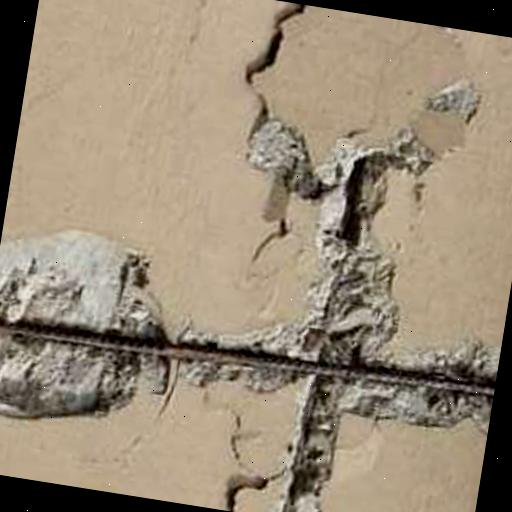spalling: (0, 86, 497, 512)
